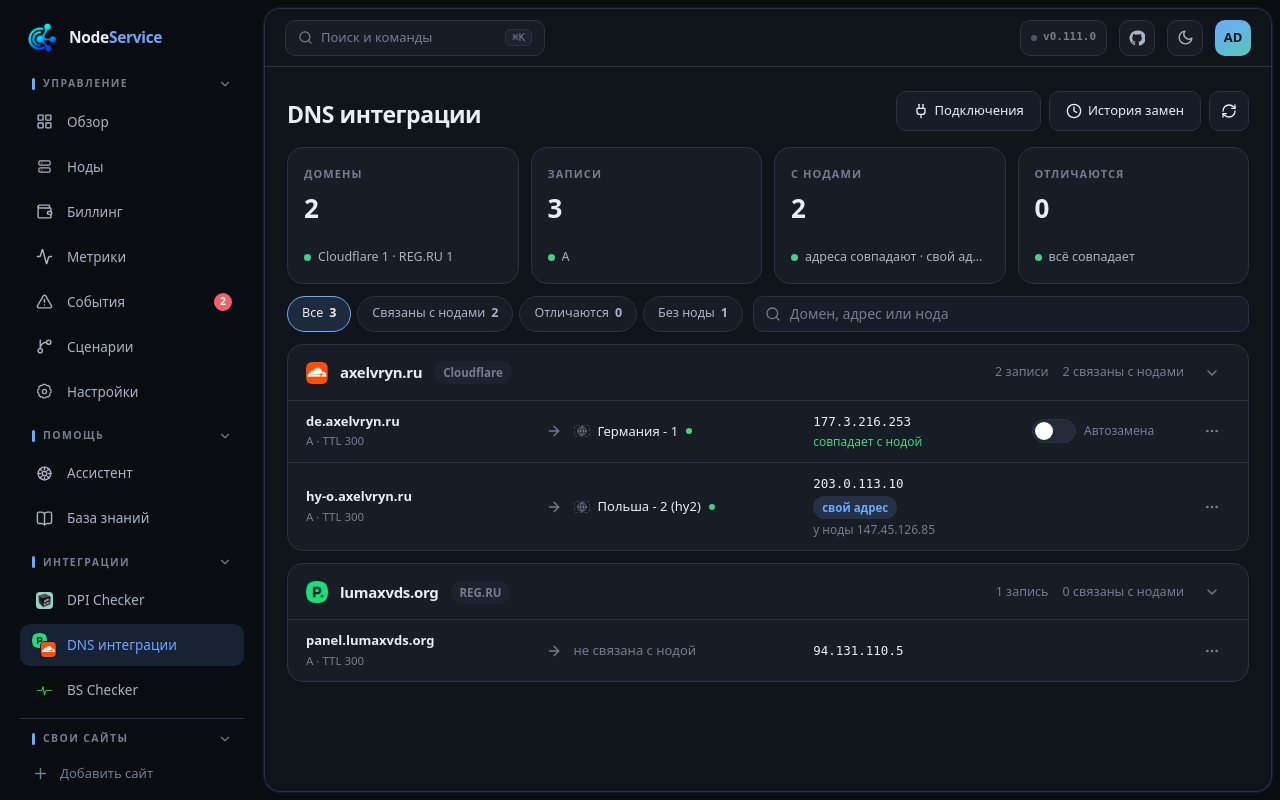
Scenario: DNS: свой адрес вместо адреса ноды (вариант B) › запись со своим адресом: метка в списке, не «отличается», без автозамены; в окне — «Свой адрес» уже выбран
Expected: the button "Заменить" is not shown
Expected: the button named "Отличаются0" is shown, [520, 296, 637, 332]
Click the button with aria-label "Запись hy-o.axelvryn.ru" at (359, 496), box [288, 462, 1248, 550]
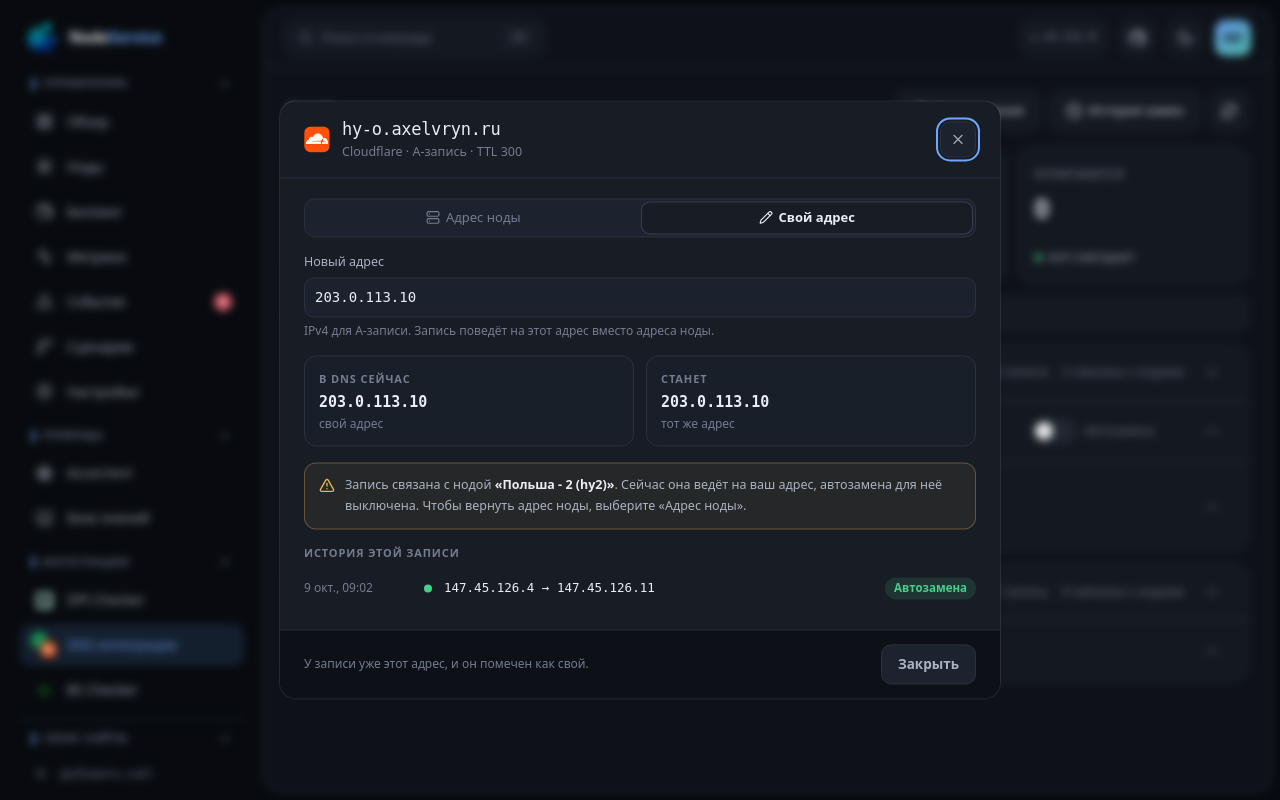
Now the field labelled "Новый адрес" holds "203.0.113.10", box [304, 277, 976, 317]
Now the element that starts with "Запись связана с" shows "автозамена для неё выключена", box [345, 477, 942, 514]
Click the radio button labelled "Адрес ноды" at (473, 218), box [308, 202, 638, 233]
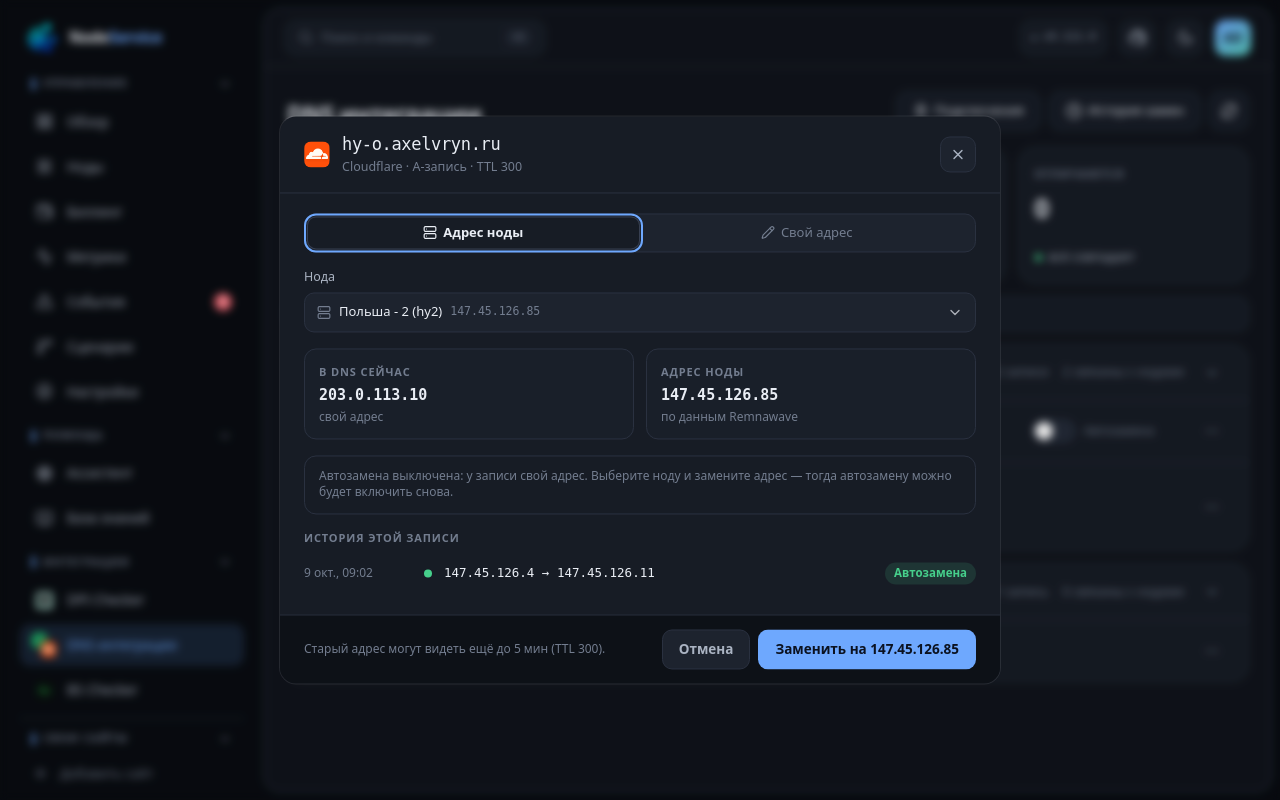
Now the dialog shows "Автозамена выключена: у записи свой адрес", box [319, 467, 952, 501]
